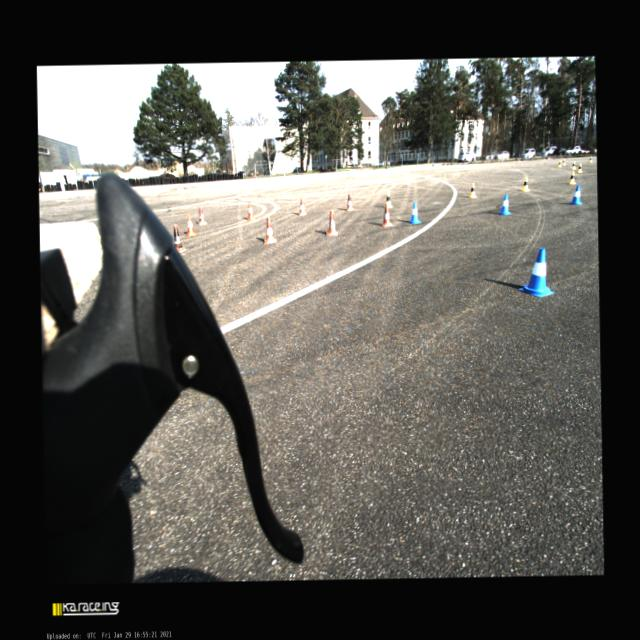blue_cone: (516, 246, 554, 297), (407, 201, 421, 224), (497, 193, 511, 215), (568, 183, 581, 204)
orange_cone: (172, 223, 186, 252), (324, 209, 338, 236), (264, 216, 276, 244), (380, 202, 393, 226), (184, 213, 196, 236), (344, 192, 354, 210), (197, 206, 207, 224), (298, 196, 307, 215), (246, 202, 254, 220)
yellow_cone: (383, 190, 392, 208), (520, 176, 530, 192), (468, 182, 477, 198), (567, 170, 576, 183), (576, 162, 582, 173), (570, 160, 576, 170), (557, 159, 562, 167), (562, 157, 566, 165), (587, 156, 592, 162)
